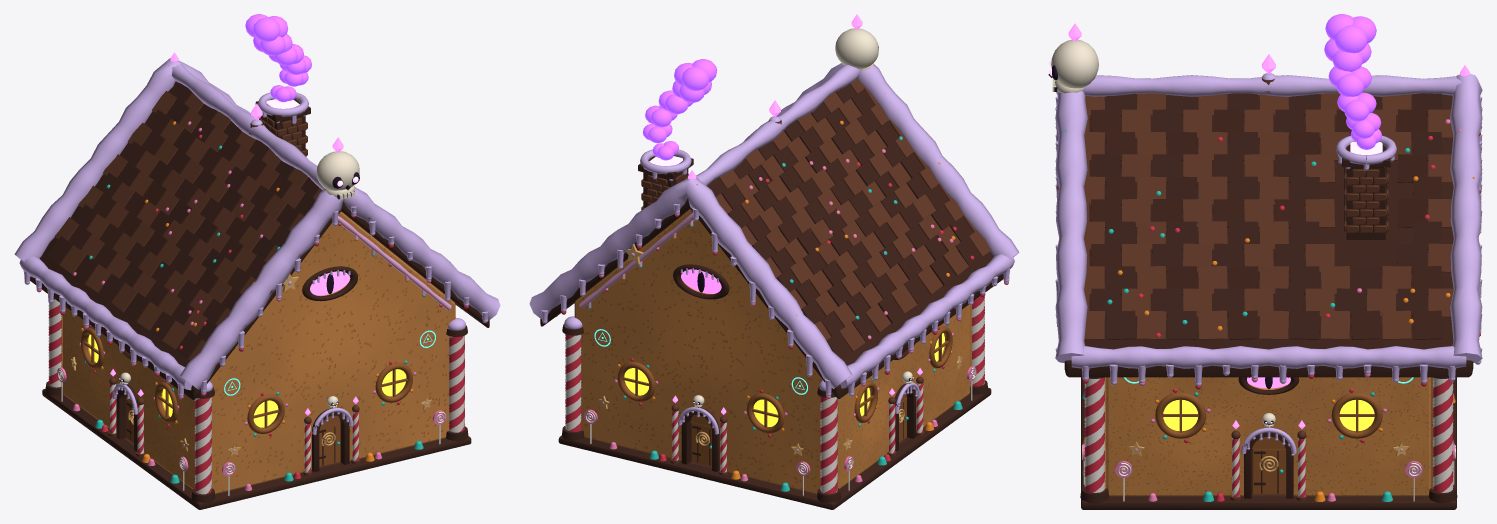
File: Witch_Cookie_House.fbx
3 views of the same model, side by side, from view 1: azimuth 30°, elevation 25°; view 2: azimuth 150°, elevation 25°; view 3: azimuth 270°, elevation 25° (orthographic). The views are drawn at different scales.
Parts seen in each view (by area): view 1: Roof_Tiles, Wall_Front, Roof_Icing, Wall_Left, CornerDeco, Foundation, Roof, Chimney_Smoke, RoofDeco_Skull_Top, Chimney, Window_Front_Eye, WallDeco_Front_IcingTrim (+10 smaller); view 2: Roof_Tiles, Wall_Back, Roof_Icing, Wall_Left, CornerDeco, Foundation, Roof, Chimney_Smoke, RoofDeco_Skull_Top, Chimney, Window_Back_Eye, WallDeco_Back_IcingTrim (+10 smaller); view 3: Roof_Tiles, Roof_Icing, Wall_Right, Roof, CornerDeco, Foundation, Chimney_Smoke, Chimney, RoofDeco_Skull_Top, Door_Right, Window_Right_R, Window_Right_L (+10 smaller).
Part boxes in pixels (x1,y1,x2,y2): Roof_Tiles: (47,83,370,360); Wall_Front: (209,211,455,494); Roof_Icing: (14,58,500,396); Wall_Left: (63,307,195,488); CornerDeco: (45,298,468,502); Foundation: (42,388,471,509); Roof: (30,81,489,399); Chimney_Smoke: (245,14,311,102); RoofDeco_Skull_Top: (316,151,359,199); Chimney: (255,98,310,156); Window_Front_Eye: (302,266,357,301); WallDeco_Front_IcingTrim: (338,216,451,310); Roof_Tiles: (707,78,990,358); Wall_Back: (574,209,822,493); Roof_Icing: (529,63,1019,396); Wall_Left: (837,305,970,488); CornerDeco: (562,296,988,502); Foundation: (558,387,991,509); Roof: (540,198,1003,398); Chimney_Smoke: (643,59,717,160); RoofDeco_Skull_Top: (835,28,878,70); Chimney: (638,155,693,210); Window_Back_Eye: (673,264,729,299); WallDeco_Back_IcingTrim: (579,213,741,309); Roof_Tiles: (1084,93,1453,339); Roof_Icing: (1055,73,1482,385); Wall_Right: (1106,377,1431,496); Roof: (1064,94,1473,377); CornerDeco: (1080,377,1457,503); Foundation: (1081,377,1456,509); Chimney_Smoke: (1324,14,1381,149); Chimney: (1342,142,1390,239); RoofDeco_Skull_Top: (1048,39,1098,93); Door_Right: (1252,449,1285,494); Window_Right_R: (1331,392,1382,438); Window_Right_L: (1155,392,1206,438).
Bounding box in the file's own units: 18.74 × 20.89 × 18.71.
